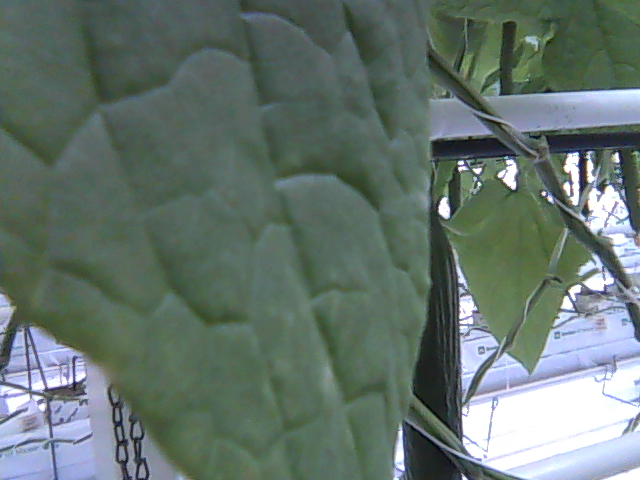concombre: (397, 204, 468, 480)
